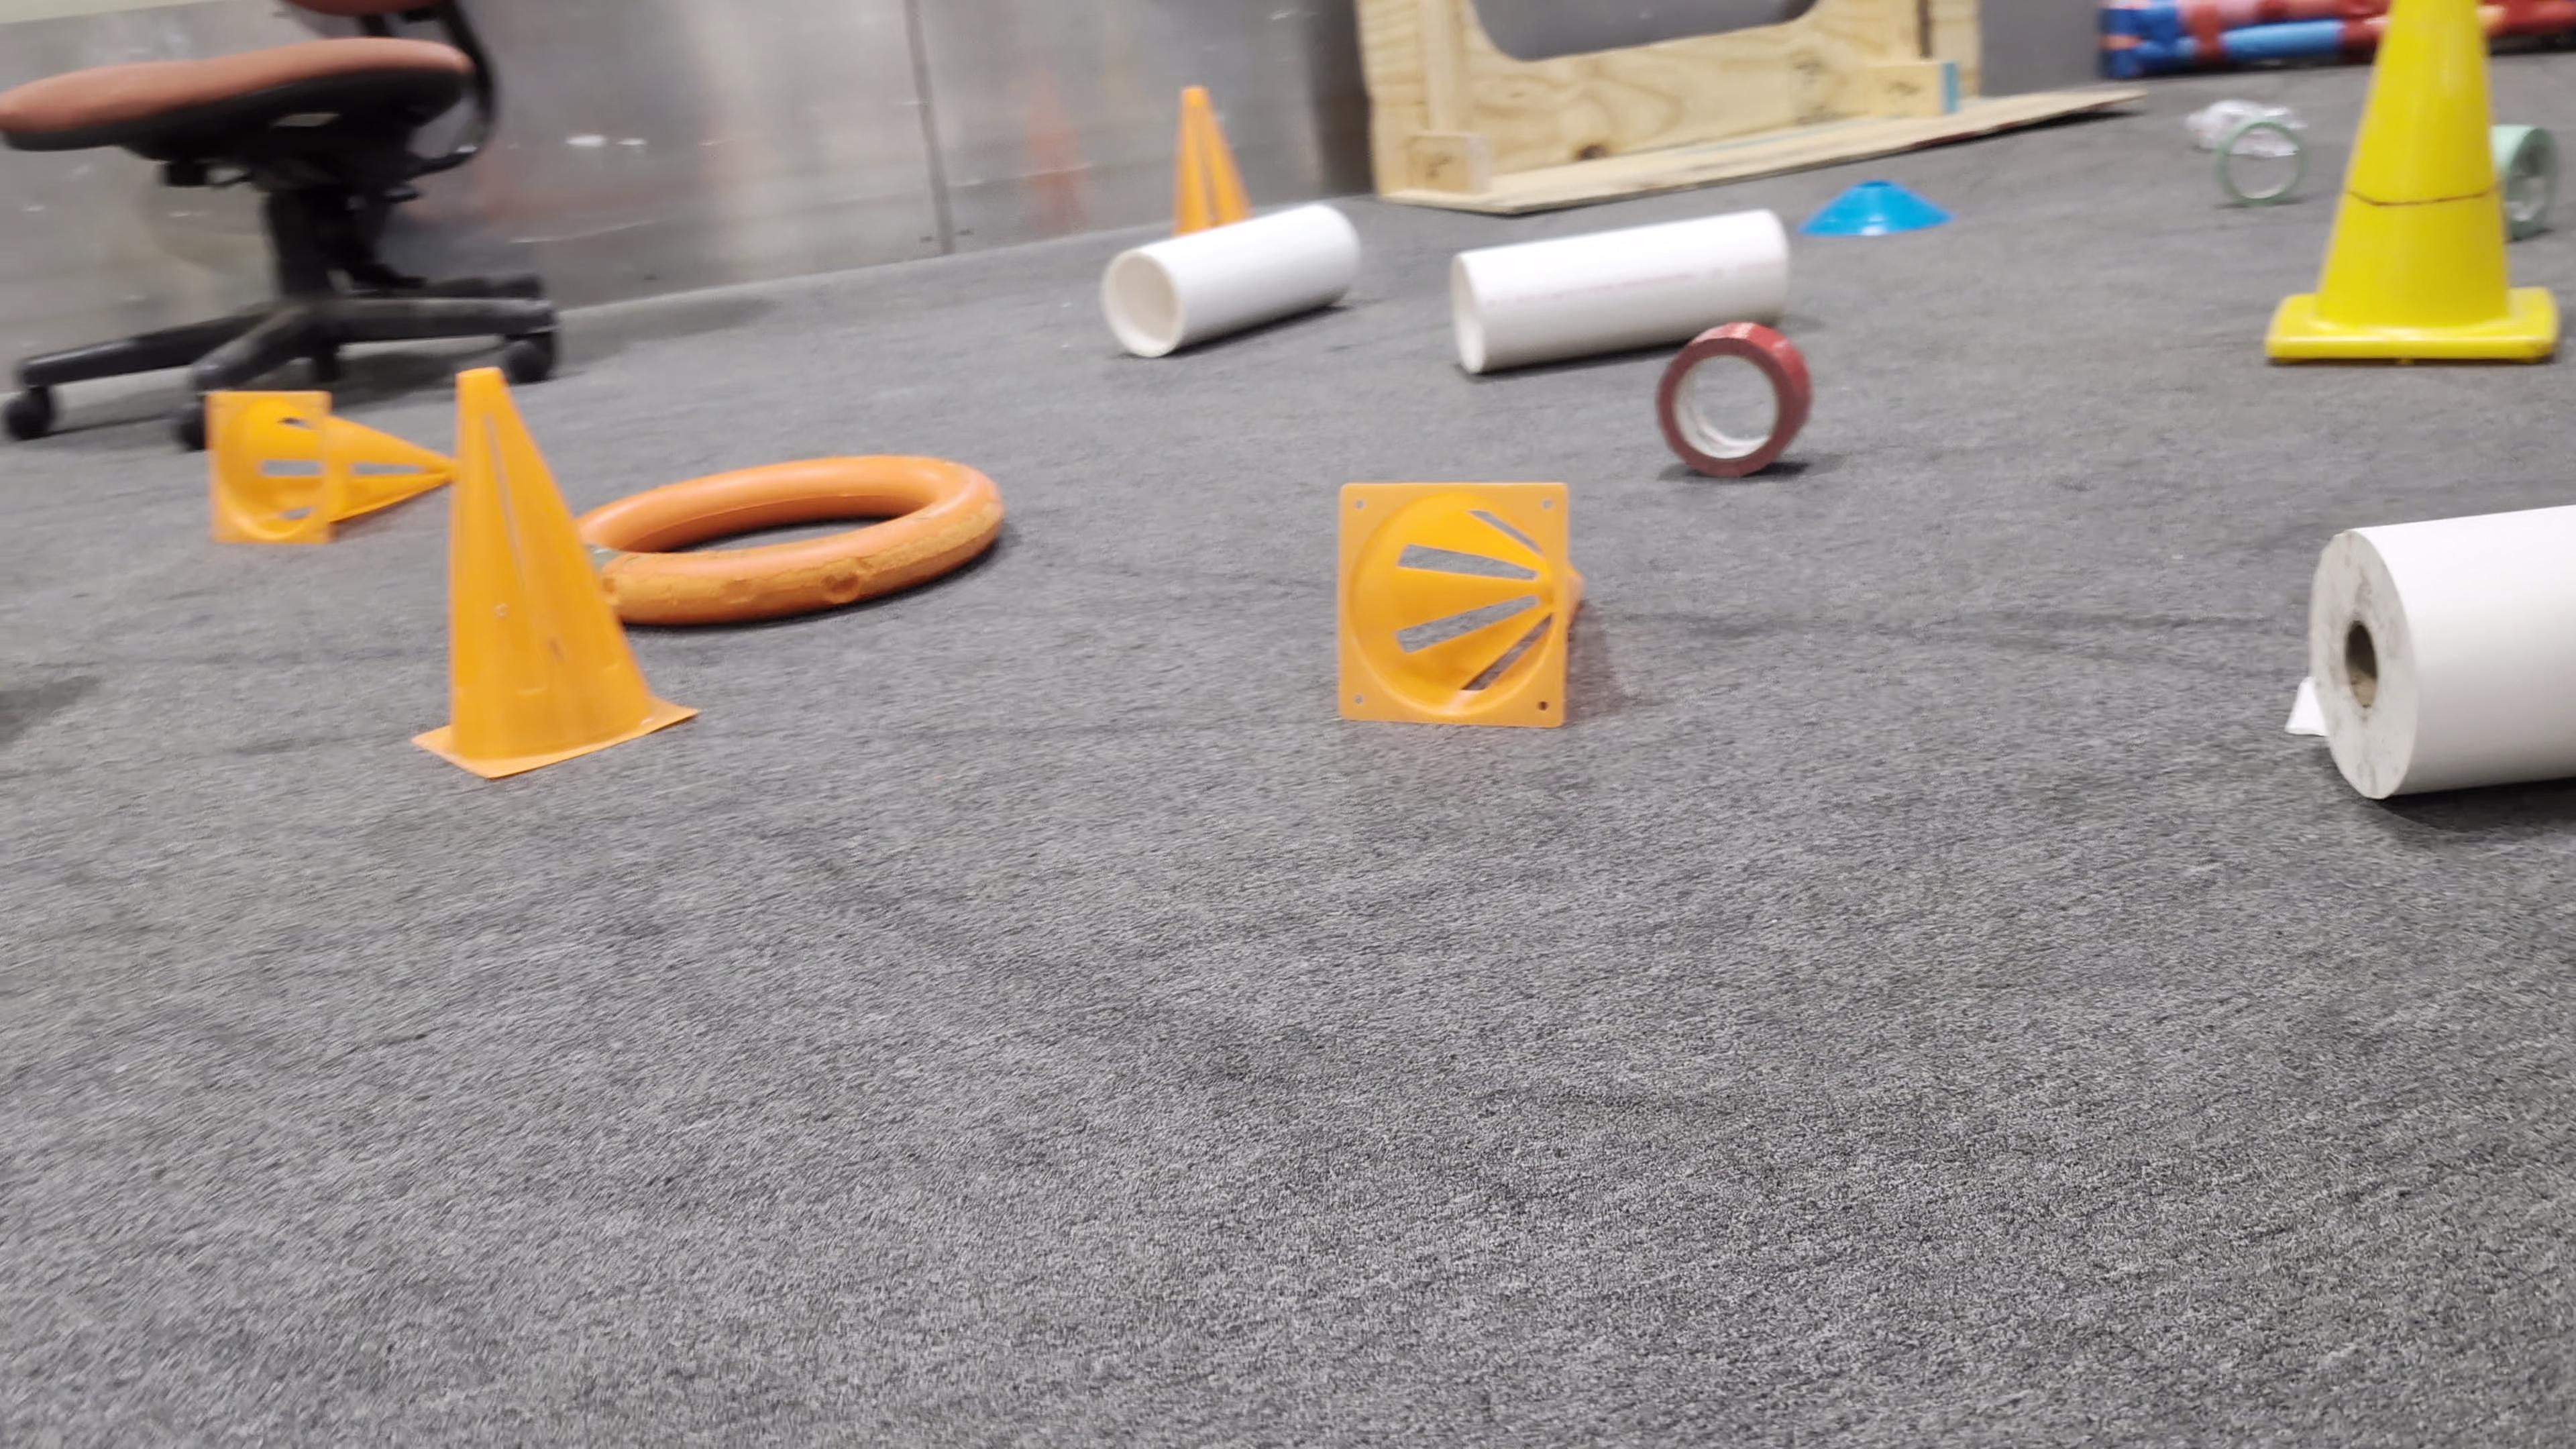coral: (1447, 200, 1794, 375), (1099, 195, 1359, 357)
